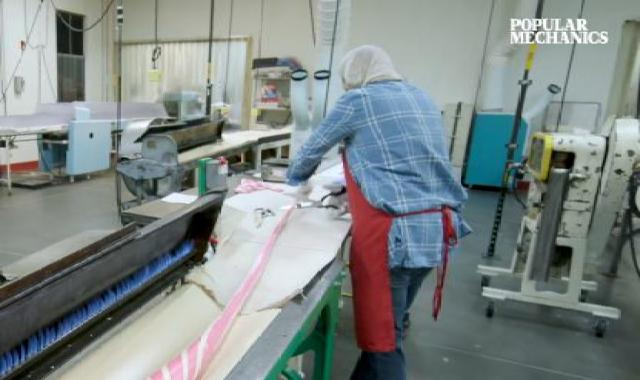hairnet: (330, 44, 404, 88)
